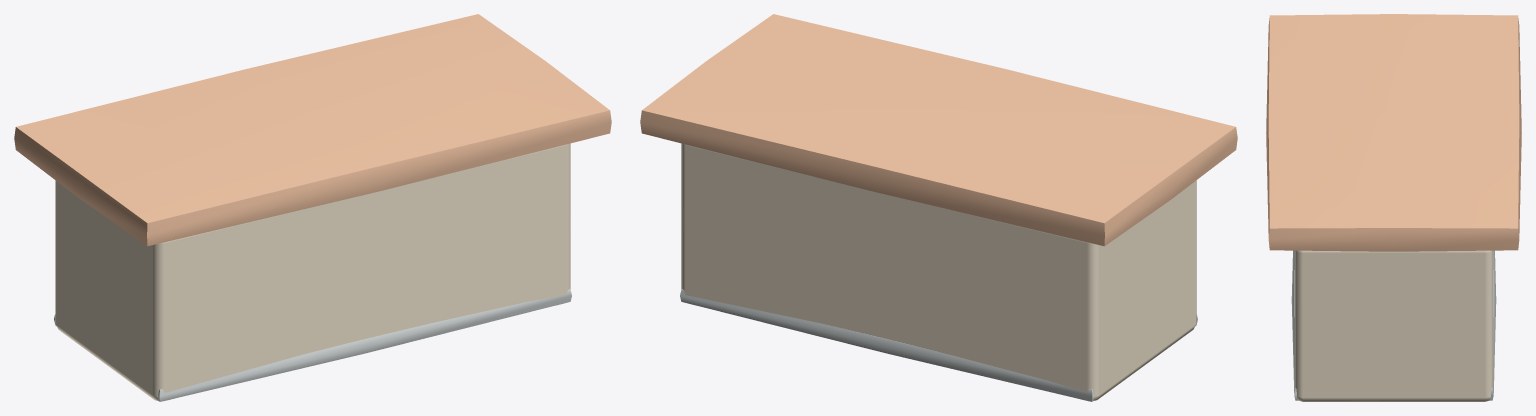
The model's file is reception-desk.glb.
3 renders of one model, left to right at view 1: azimuth 30°, elevation 25°; view 2: azimuth 150°, elevation 25°; view 3: azimuth 270°, elevation 25°, orthographic. The views are drawn at different scales.
Visible parts, largest first — view 1: part (×3); view 2: part (×3); view 3: part (×3).
Boxes of the visible parts, x1=… form: part (×3): x1=14, y1=14, x2=611, y2=401; part (×3): x1=640, y1=14, x2=1237, y2=401; part (×3): x1=1266, y1=14, x2=1521, y2=401.
Size of the model in its own units: 1.8 by 0.74 by 0.9.
1 material, 1 textured.
